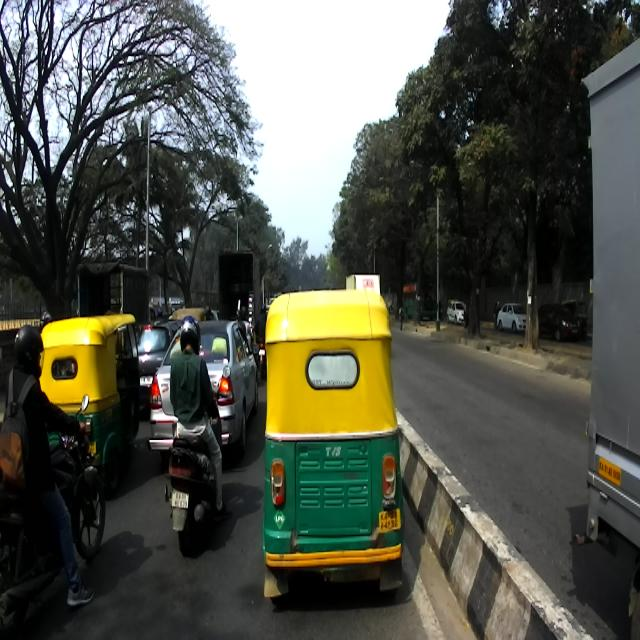auto ahead at: (268, 294, 404, 599)
motorcycle ahead at: (0, 458, 108, 636), (166, 436, 224, 560)
